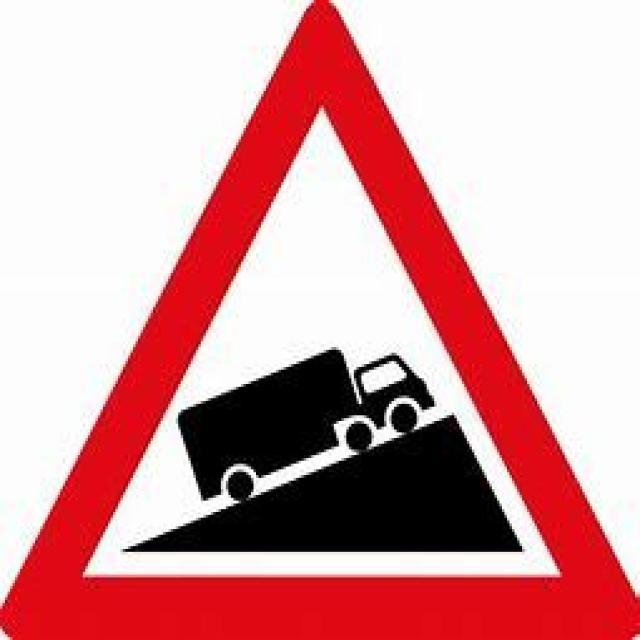steep ascent: (14, 19, 623, 629)
